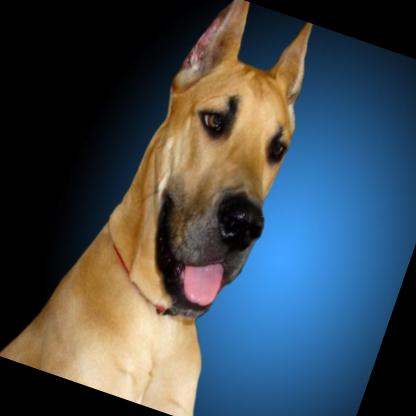Great_Dane: (0, 0, 329, 416)
